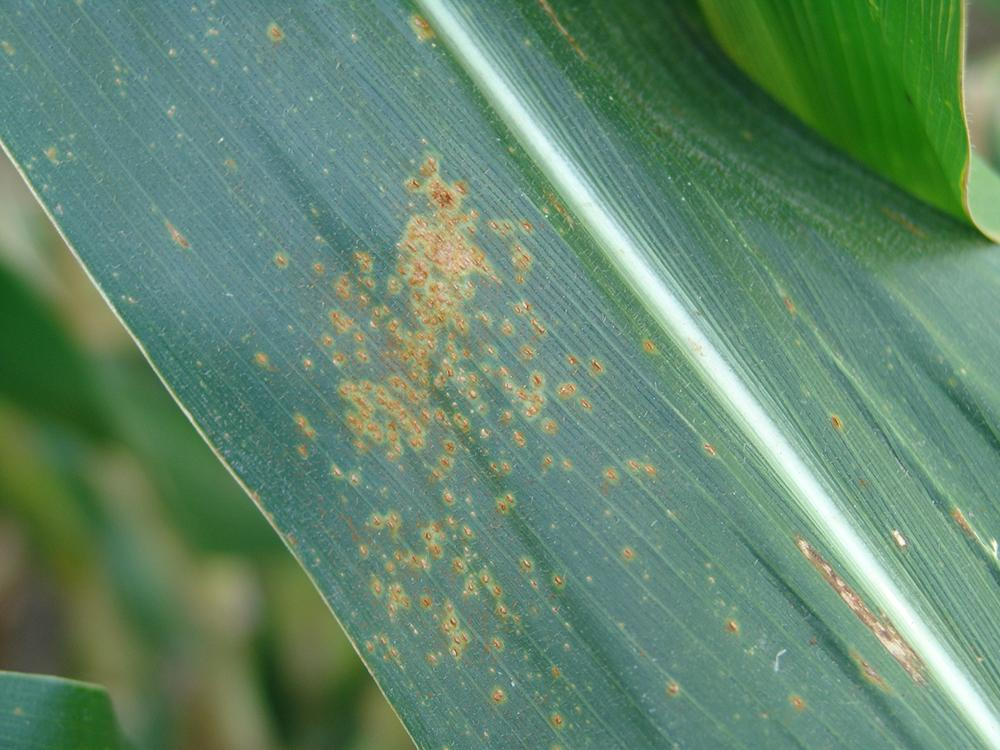Corn rust leaf: (1, 1, 997, 750)
